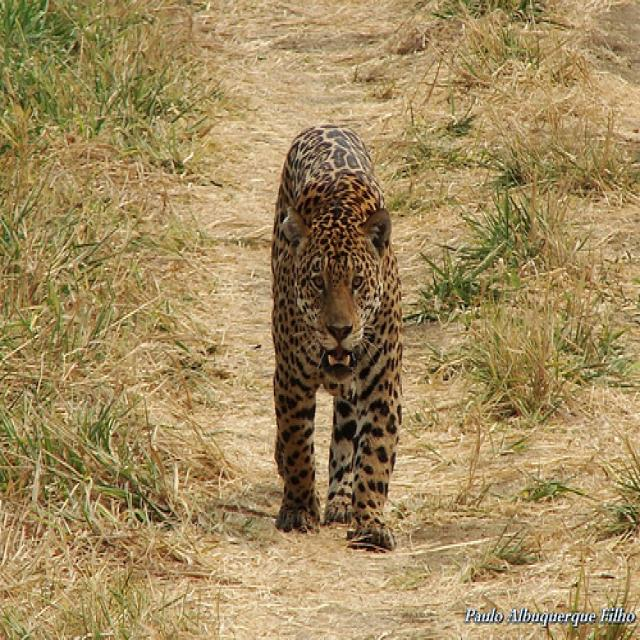Leopard: (266, 119, 406, 556)
